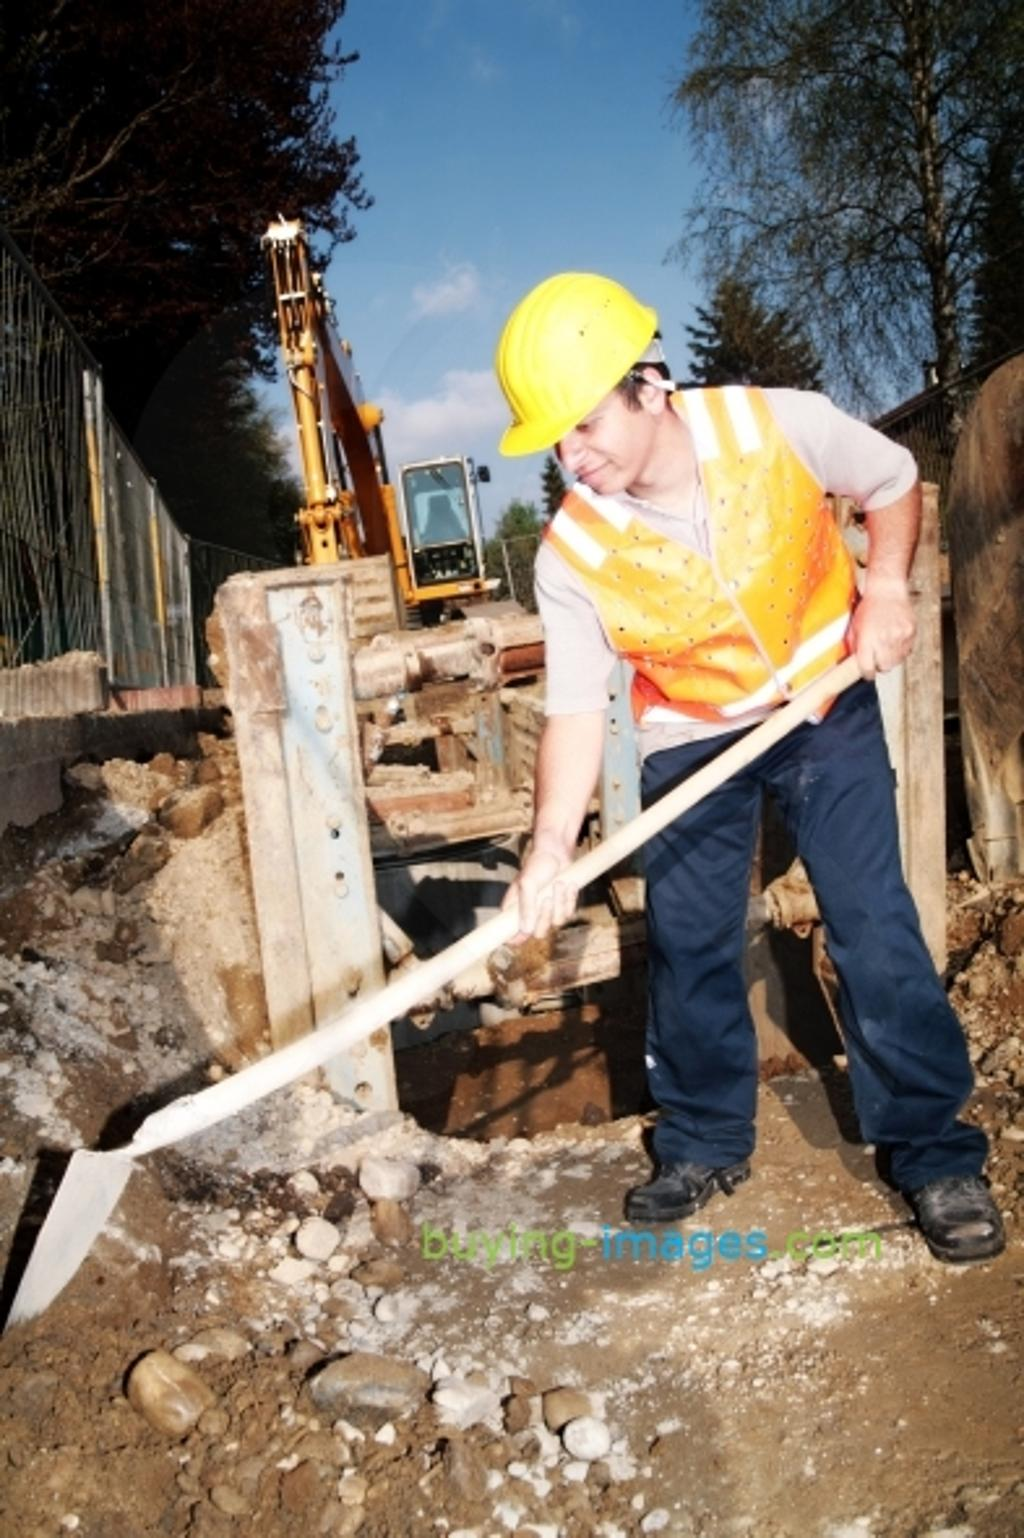face: (538, 351, 640, 495)
